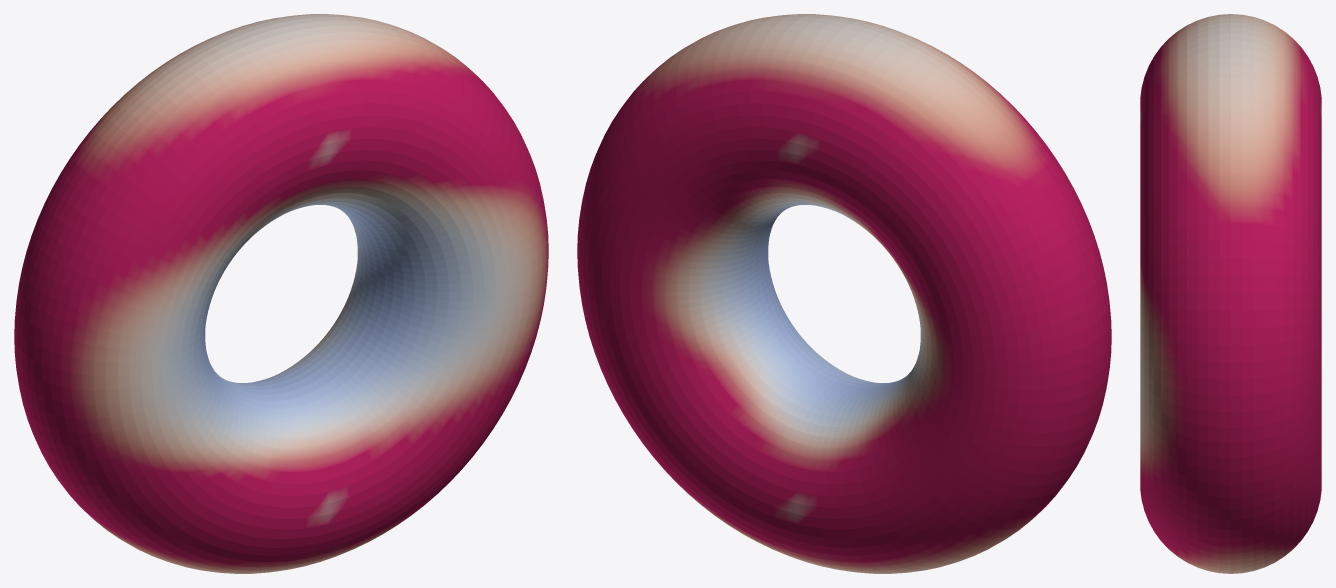
3 views of the same model, side by side, from view 1: azimuth 30°, elevation 25°; view 2: azimuth 150°, elevation 25°; view 3: azimuth 270°, elevation 25° (orthographic). The views are drawn at different scales.
Visible parts, largest first — view 1: world; view 2: world; view 3: world.
Part boxes in pixels (x1=…): world: x1=14, y1=14, x2=548, y2=573; world: x1=577, y1=14, x2=1111, y2=573; world: x1=1140, y1=14, x2=1321, y2=573.
Size of the model in its own units: 26.67 by 26.67 by 8.65.
